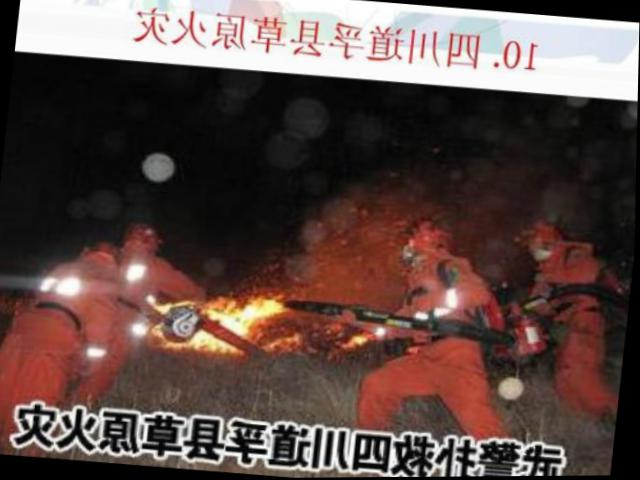fire: (151, 277, 280, 357)
